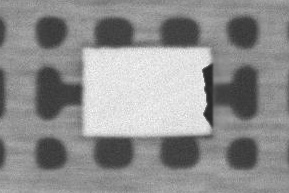DIE_BROKEN: (199, 60, 213, 128)
